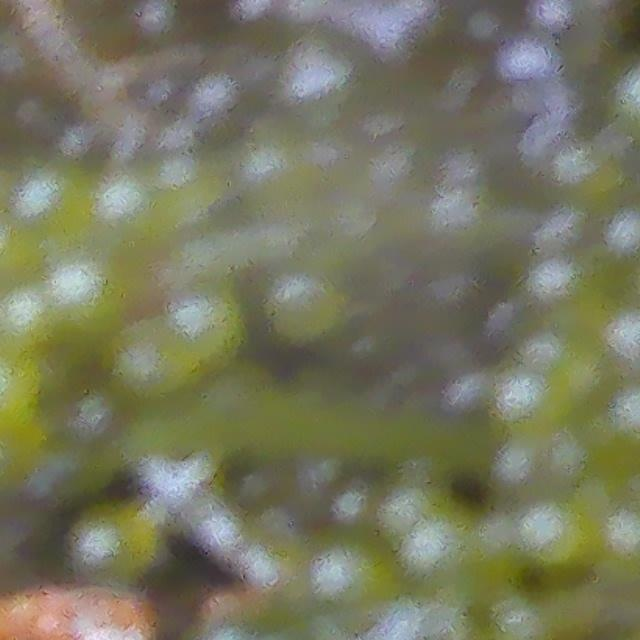SeaGrape: (514, 499, 591, 566), (50, 259, 121, 328)
